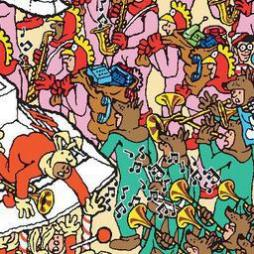wally: (225, 30, 254, 79)
